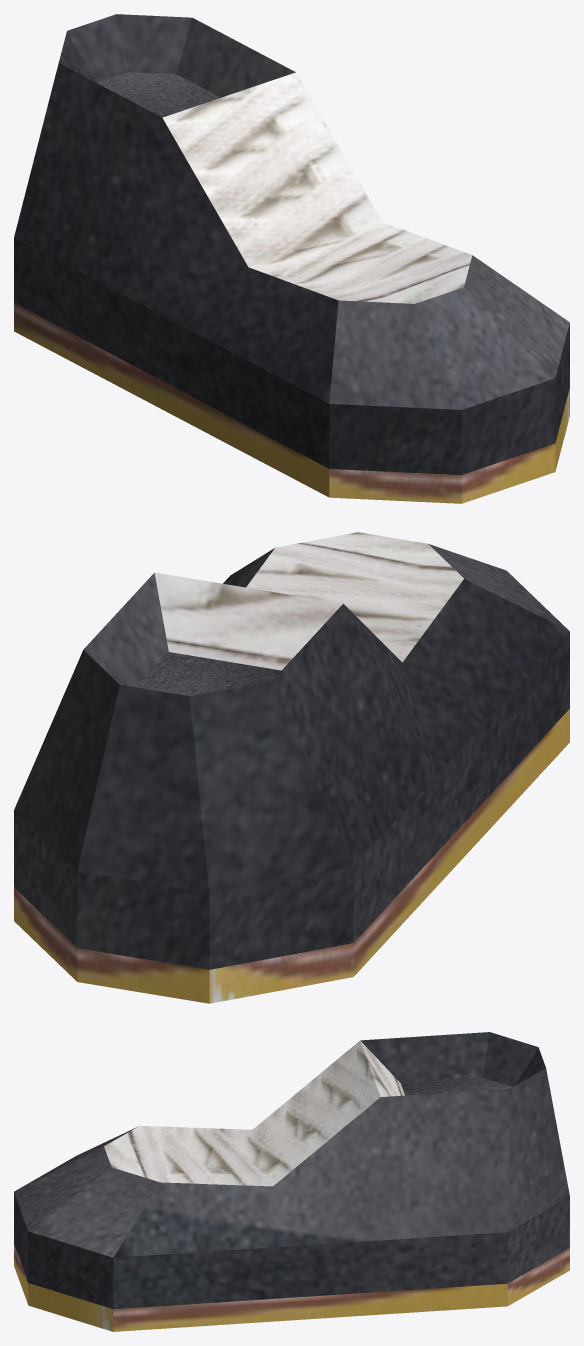
Rendered from shoe2.FBX.
3 views of the same model, one above another, from view 1: azimuth 30°, elevation 25°; view 2: azimuth 150°, elevation 25°; view 3: azimuth 270°, elevation 25° (orthographic). The views are drawn at different scales.
Visible parts, largest first — view 1: Box008, Object016, Object018, Object017; view 2: Box008, Object016, Object018, Object017; view 3: Box008, Object016, Object018, Object017.
Part boxes in pixels (x1,y1,x2,y2): Box008: (14, 14, 569, 474); Object016: (162, 72, 472, 303); Object018: (14, 303, 569, 503); Object017: (97, 72, 220, 117); Box008: (14, 544, 569, 969); Object016: (154, 532, 463, 670); Object018: (14, 709, 569, 1003); Object017: (136, 652, 281, 695); Box008: (14, 1032, 569, 1309); Object016: (104, 1040, 404, 1186); Object018: (14, 1244, 569, 1331); Object017: (400, 1078, 512, 1095).
Size of the model in its own units: 7.43 by 5.28 by 13.7.
4 materials, 4 textured.
